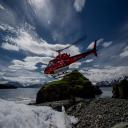helicopter: (45, 38, 98, 80)
